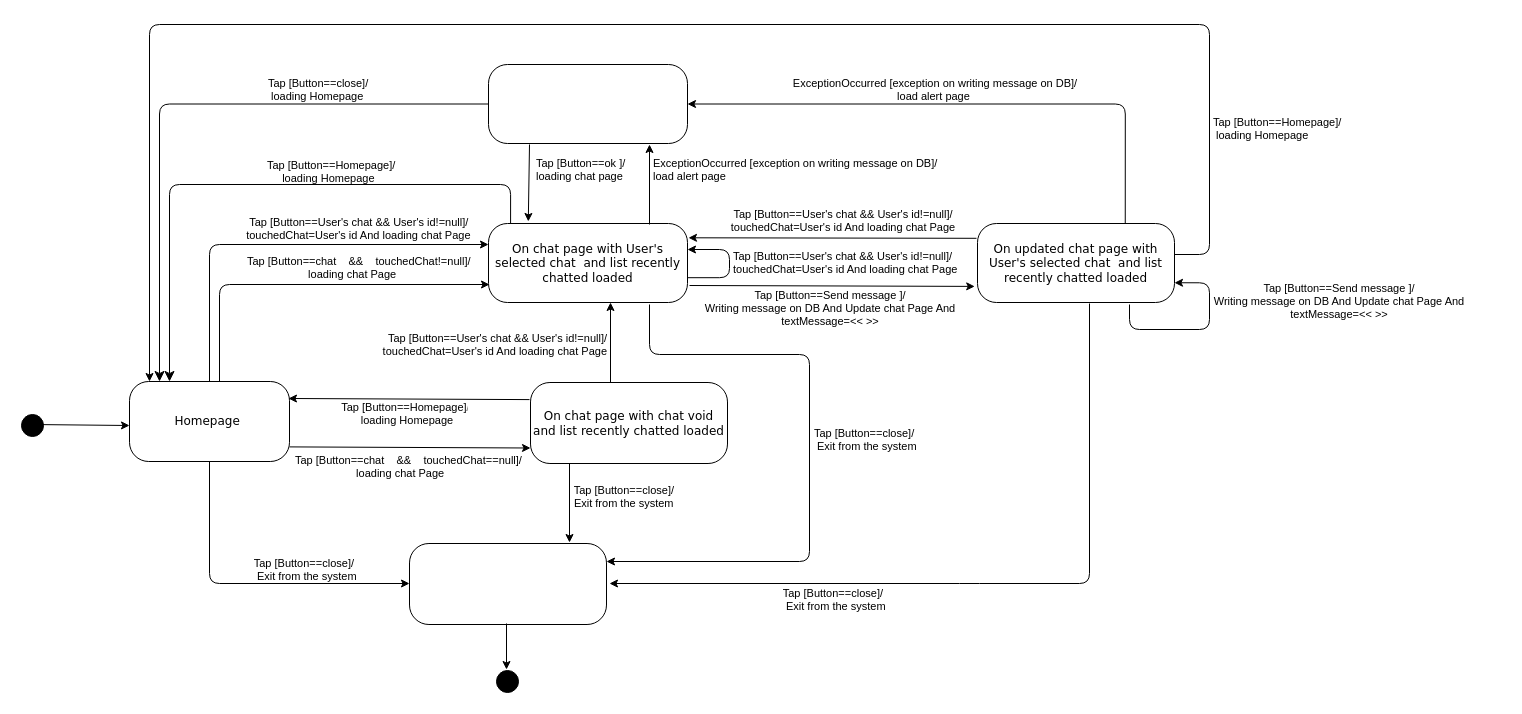
Some shapes in this 1522 by 714 pixel diagram are drawn without their labels. The centre of each missing label's shape, as x and y in pixels:
"Application Closed" goes at point (507, 583).
"On alert chat page" goes at point (588, 104).
